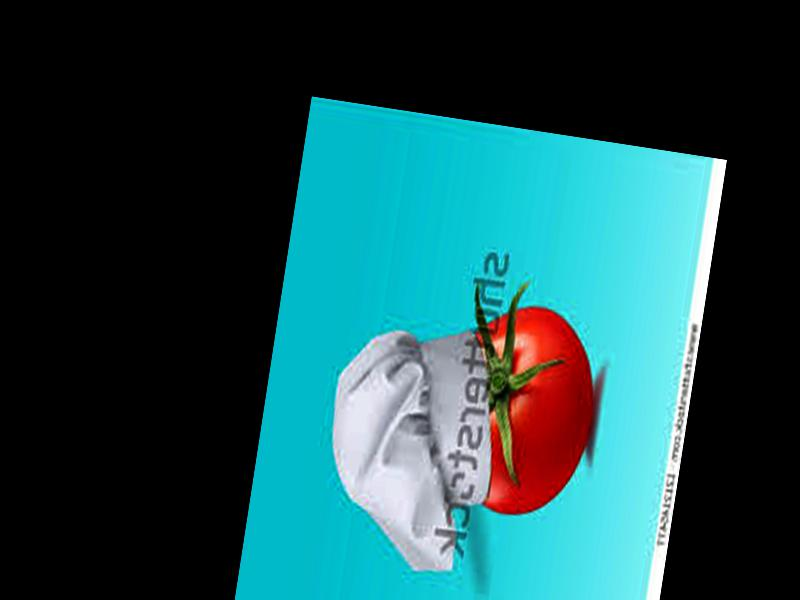Tomato: (449, 302, 603, 523)
